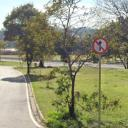NoSeguir: (92, 37, 109, 54)
